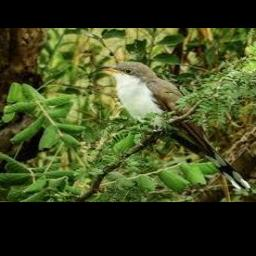Cuckoo: (97, 62, 252, 190)
